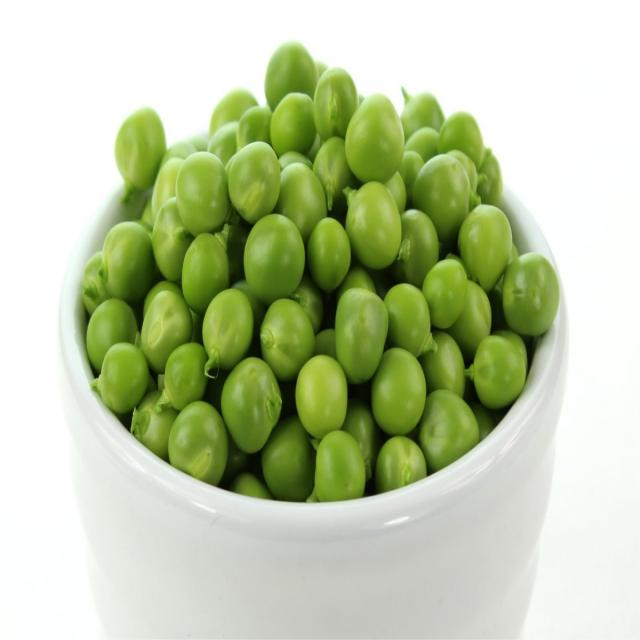Peas: (93, 45, 545, 454)
